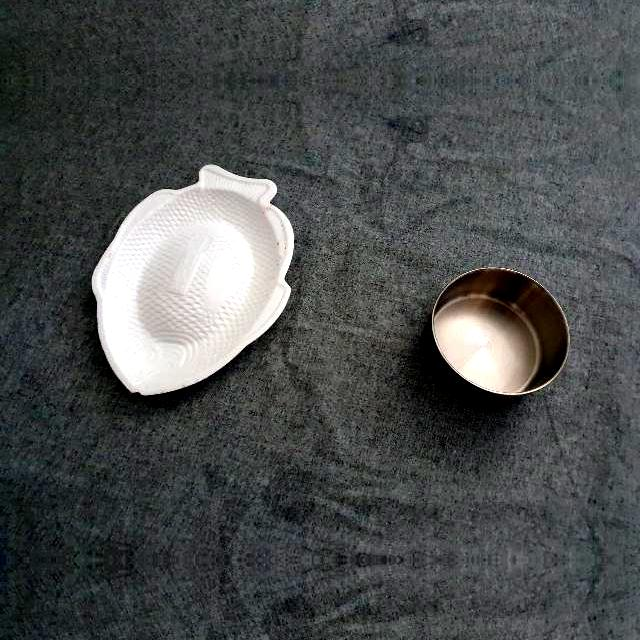Styrofoam: (92, 165, 294, 398), (91, 164, 294, 395)
